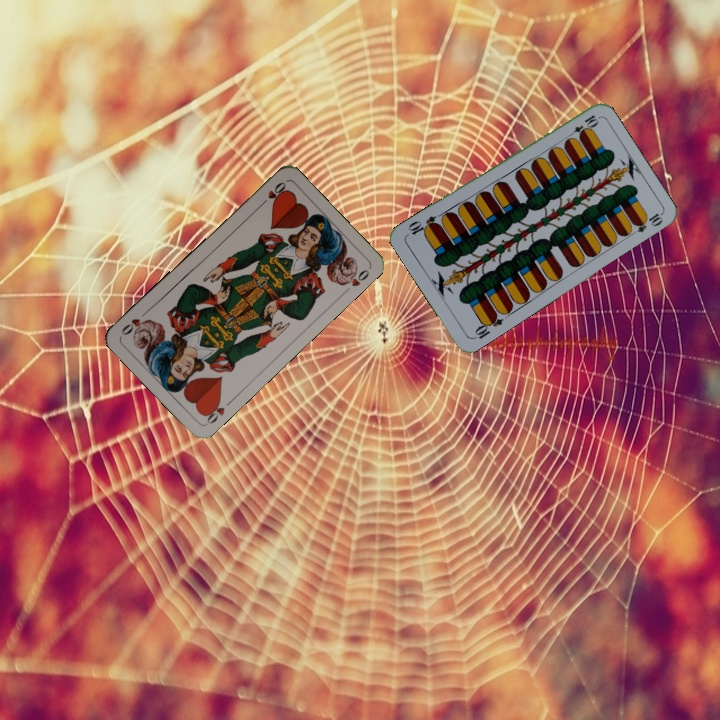E10: (469, 310, 506, 342), (564, 111, 601, 141)
HO: (199, 395, 235, 427), (255, 178, 288, 209)
